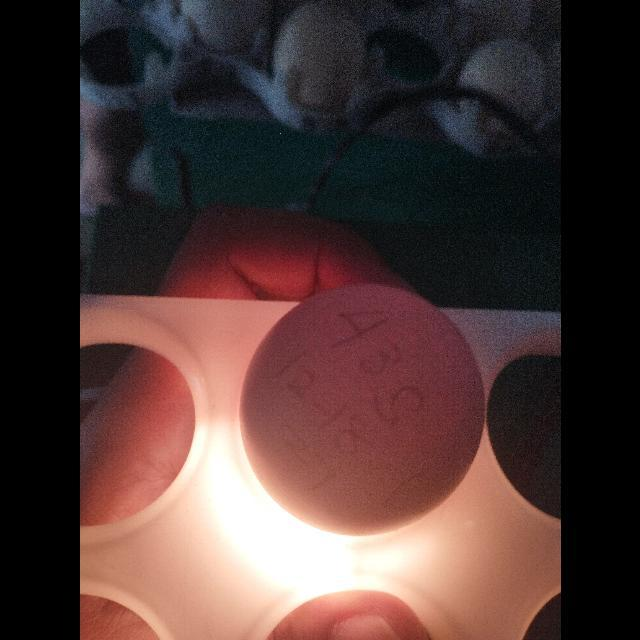Fertile: (237, 282, 488, 538)
